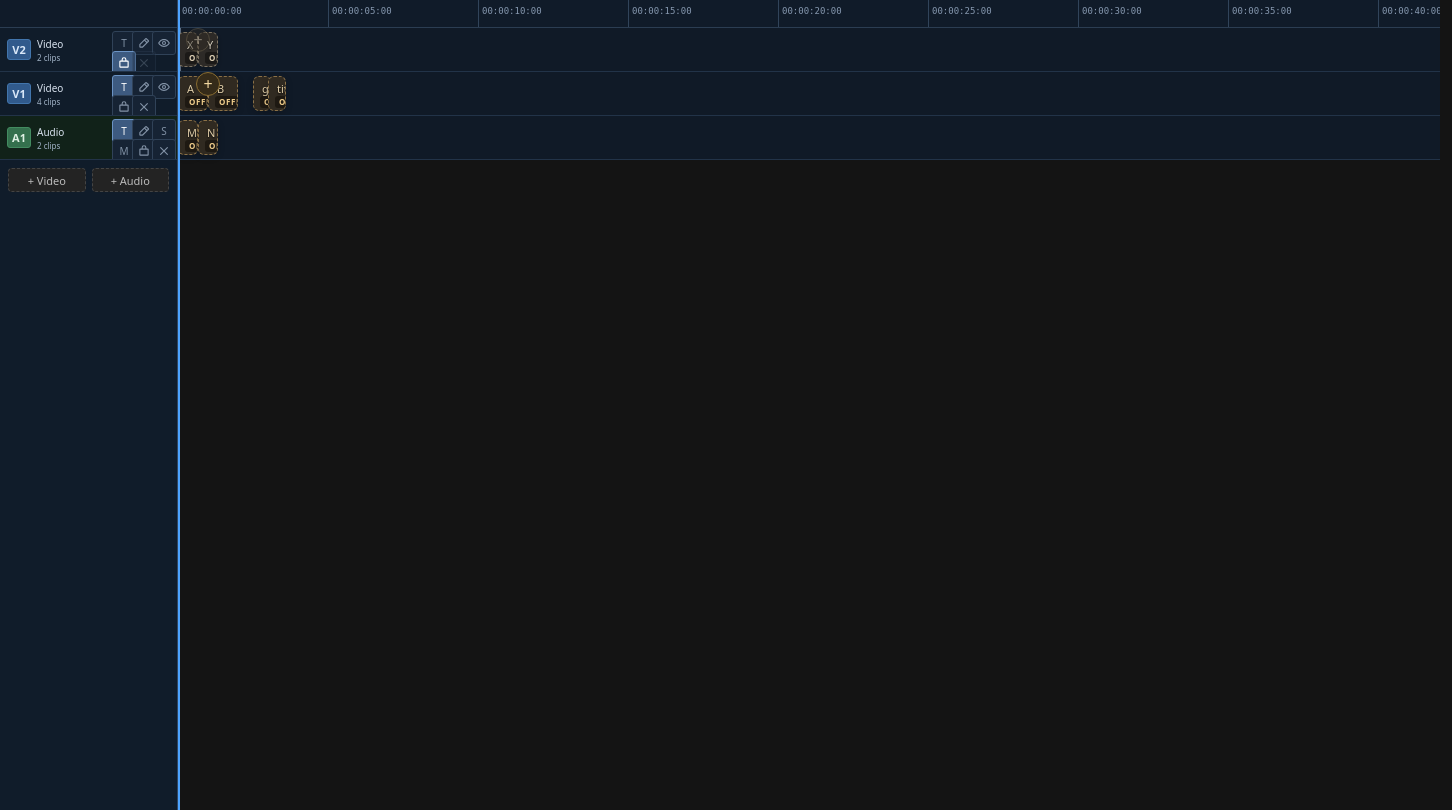
timeline crossfade controls › announces the real handle maximum and enables only a valid duration
The width and height of the screenshot is (1452, 810).
Click the button with test id "transition-add-A-B".
click(208, 84)  # box top-left (196, 72), bottom-right (220, 96)
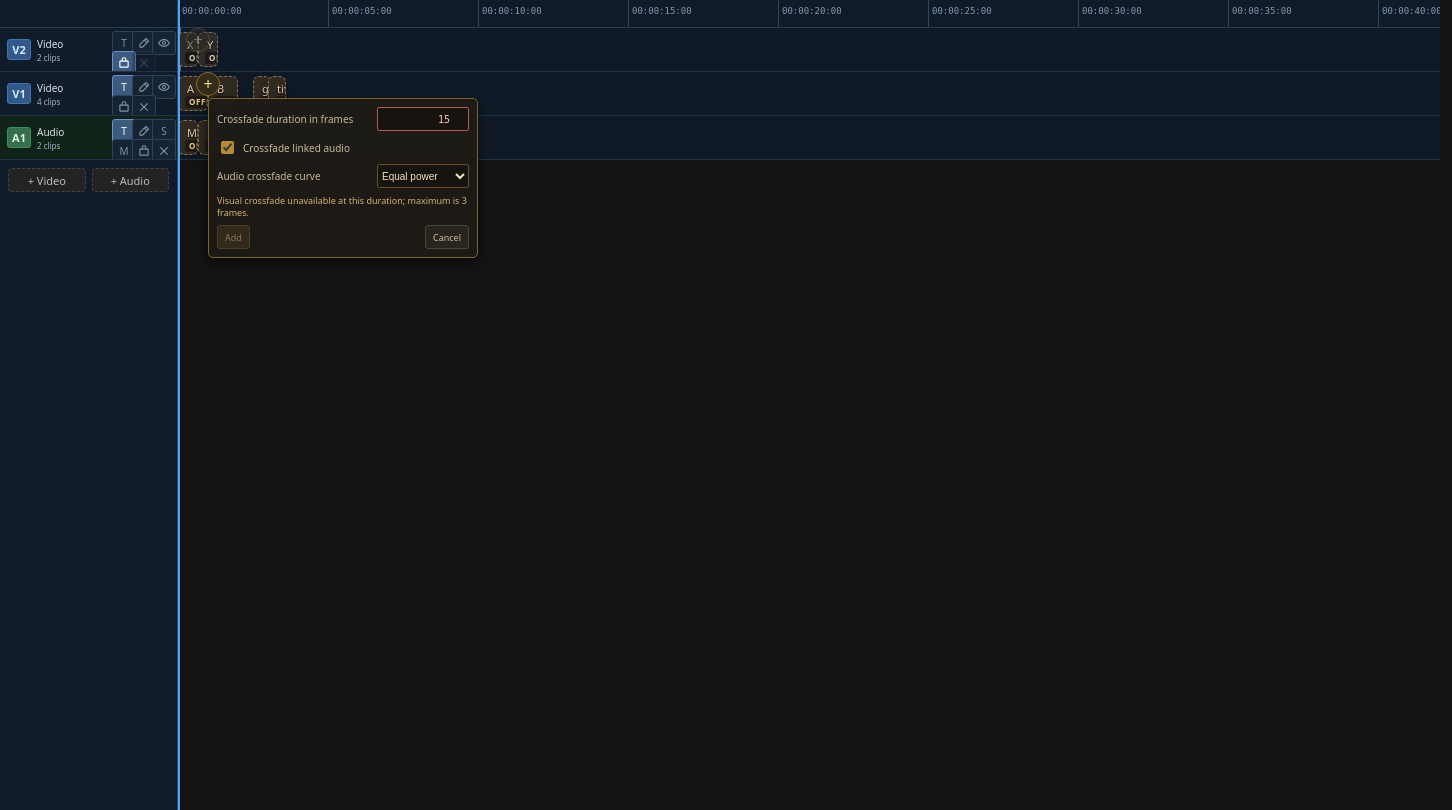
Expected: the message reads "Visual crossfade unavailable at this duration; maximum is 3 frames.", top-left (217, 194), bottom-right (467, 219)
Expected: the button with test id "transition-submit-A-B" is disabled, top-left (217, 225), bottom-right (250, 249)
Replace the text in the number field with test id "transition-duration-A-B" with "3" at (423, 119), box top-left (377, 107), bottom-right (469, 131)
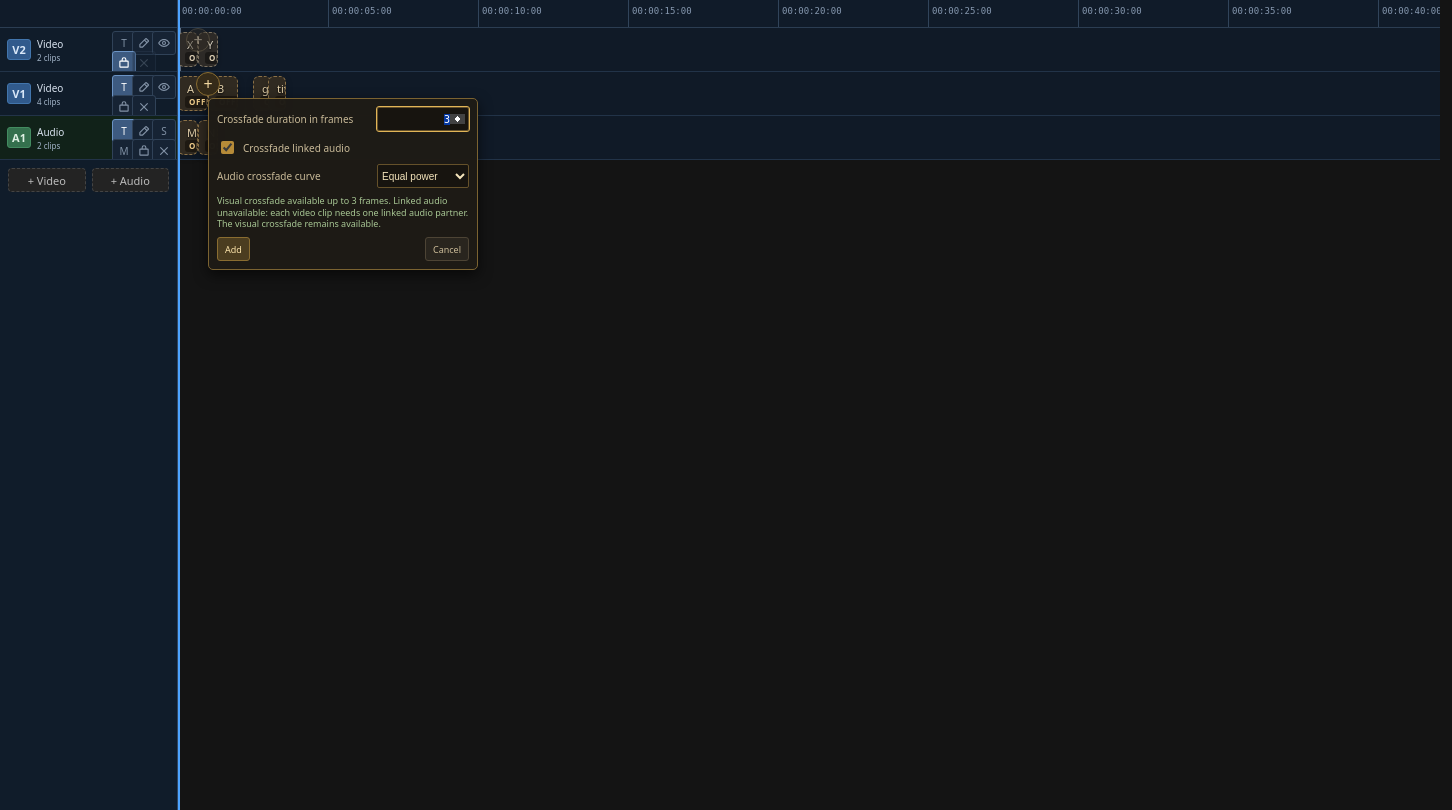
Expected: the message shows "Visual crossfade available up to 3 frames.", top-left (217, 194), bottom-right (468, 230)
Expected: the button with test id "transition-submit-A-B" is enabled, top-left (217, 237), bottom-right (250, 261)
